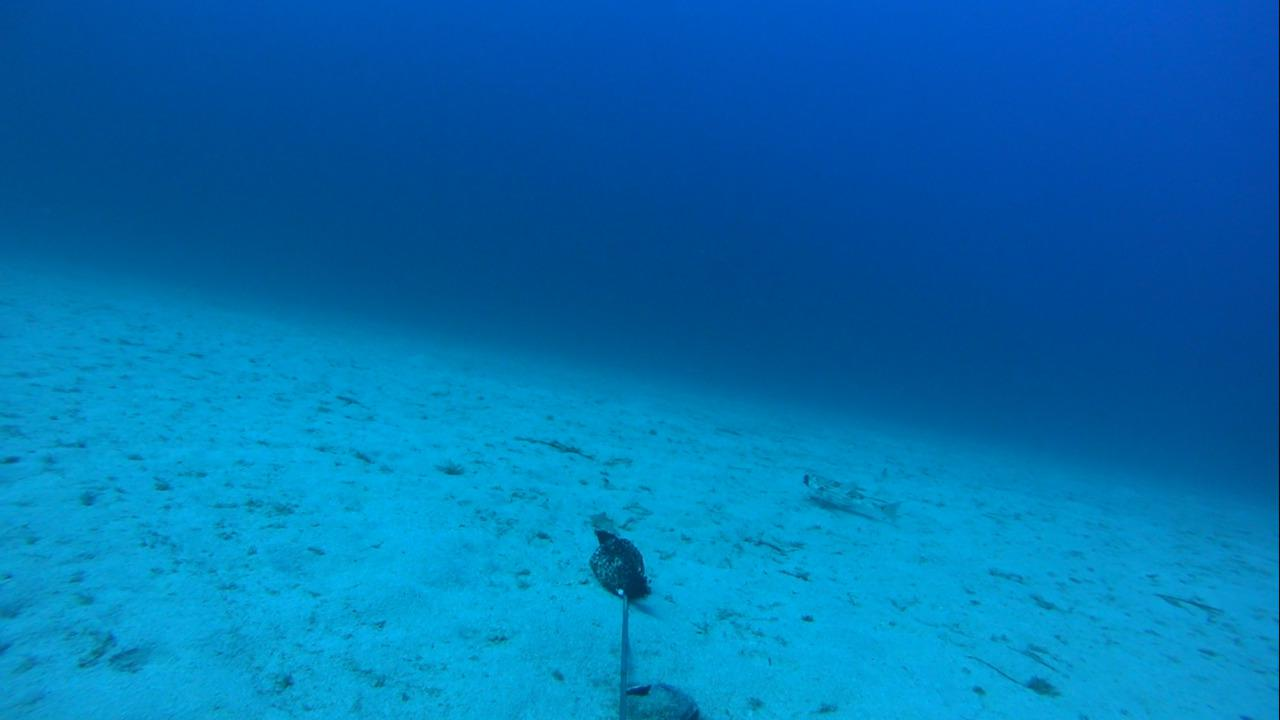dactylopterus: (789, 467, 896, 523)
